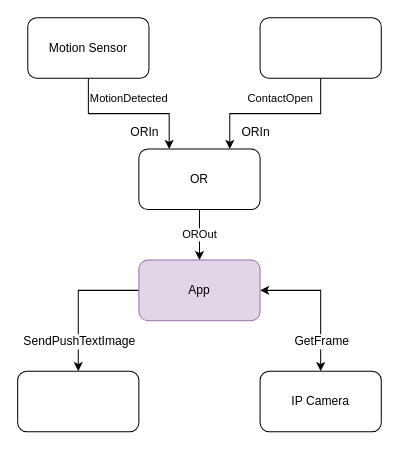
Image size: 399x449. Some labels were removed from this diagram. The shapes that lost their labels are listed below. From the top down, each one's centre as x and y in pixels, then its label:
At [320,47]: "Contact Sensor".
At [78,401]: "Push Notifier".
